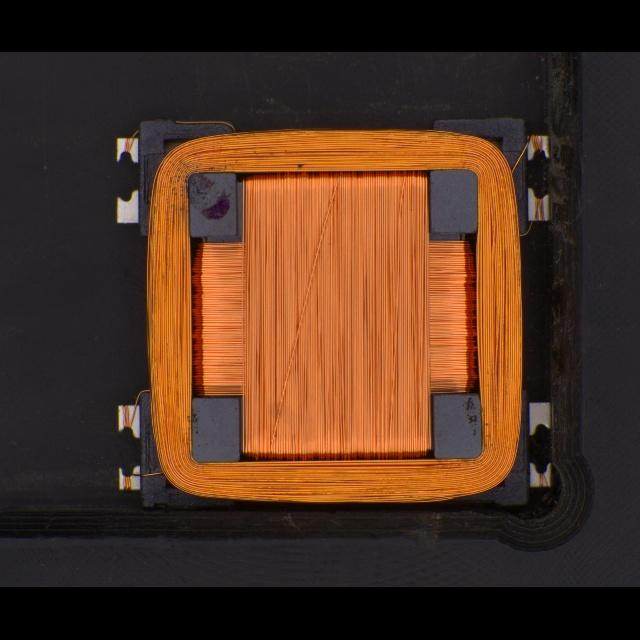Winding_Z: (131, 120, 527, 506)
